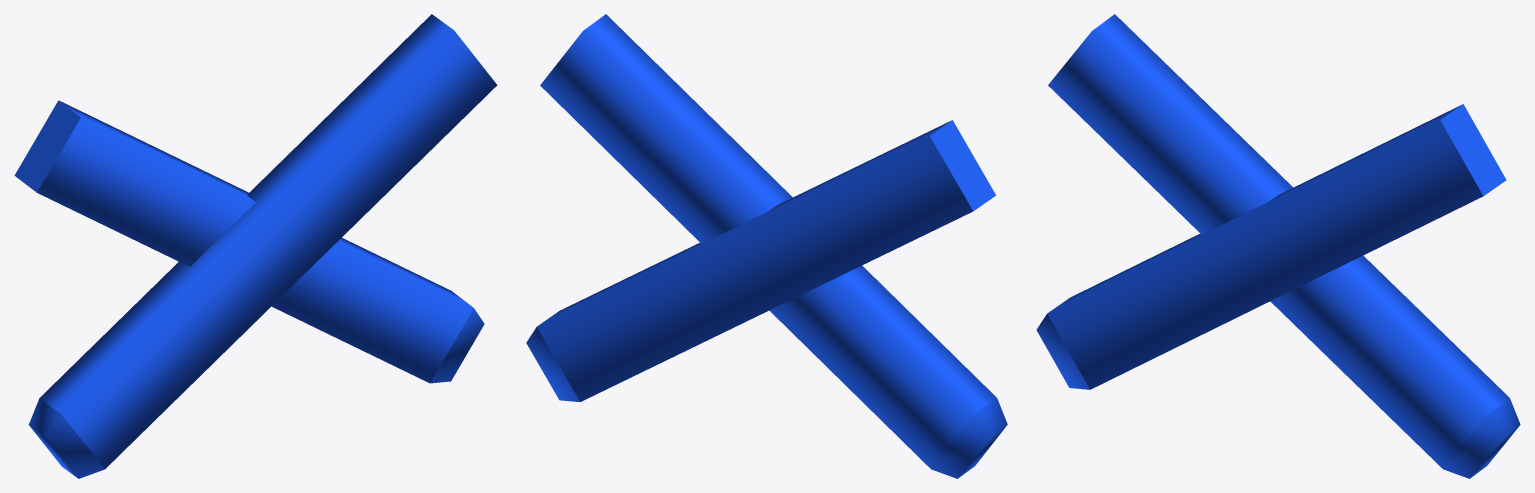
File: Ninja_sheath.fbx
3 views of the same model, side by side, from view 1: azimuth 30°, elevation 25°; view 2: azimuth 150°, elevation 25°; view 3: azimuth 330°, elevation 25° (orthographic).
Visible parts, largest first — view 1: Ninja_sheath_01; view 2: Ninja_sheath_01; view 3: Ninja_sheath_01.
Boxes of the visible parts, left/top/right/bottom form: Ninja_sheath_01: left=14, top=14, right=497, bottom=478; Ninja_sheath_01: left=526, top=14, right=1007, bottom=478; Ninja_sheath_01: left=1036, top=14, right=1520, bottom=478.
Size of the model in its own units: 59.98 by 46.42 by 8.35.
